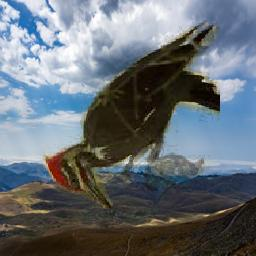Woodpecker: (44, 21, 221, 210)
